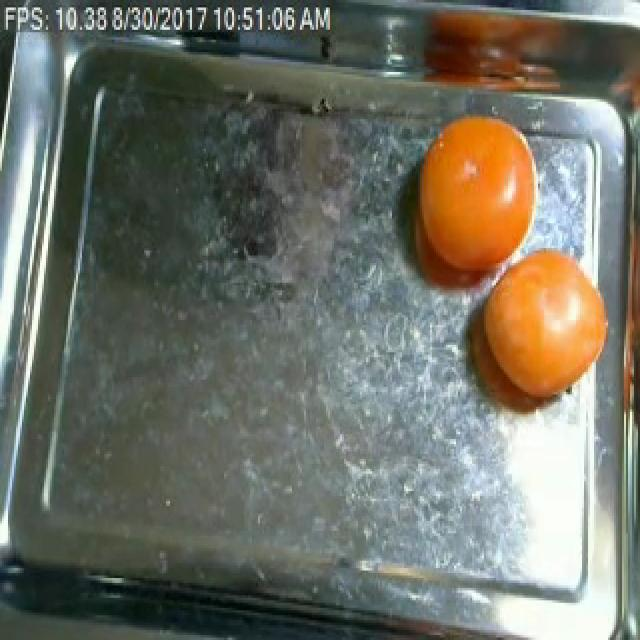Fruit: (454, 231, 616, 429), (392, 92, 544, 300)
